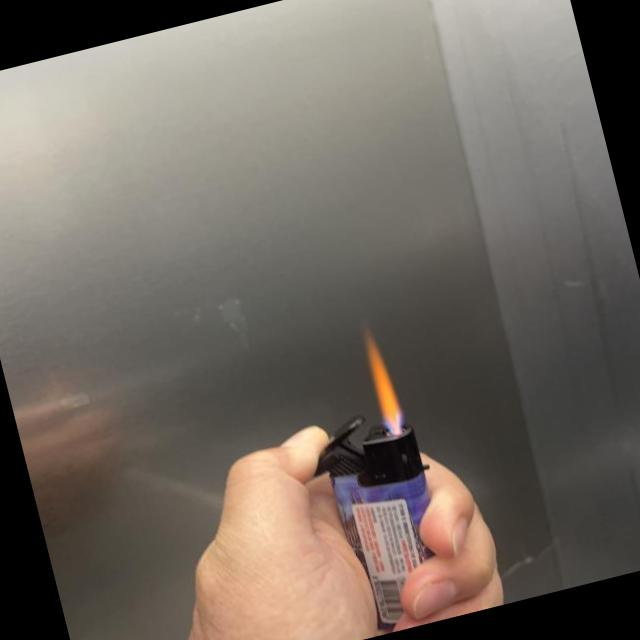Fire: (360, 332, 406, 432)
